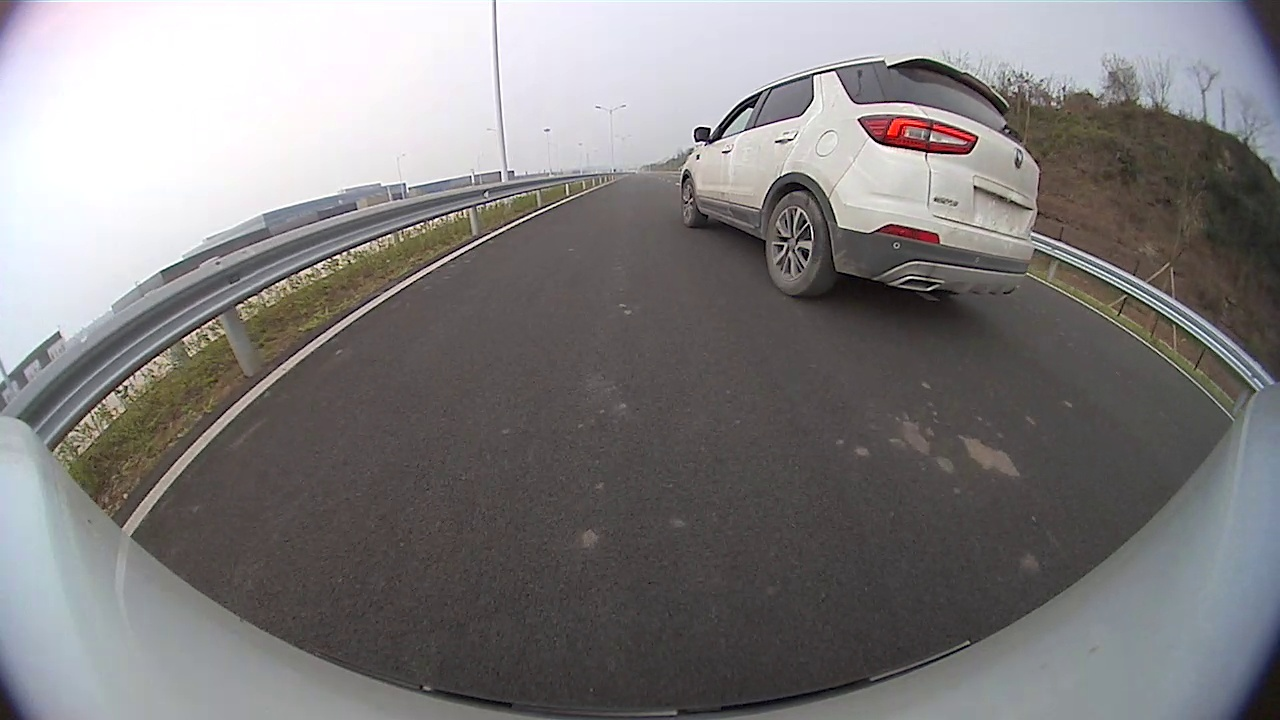car: (677, 51, 1041, 299)
front: (677, 177, 702, 227)
rear: (763, 190, 833, 294)
